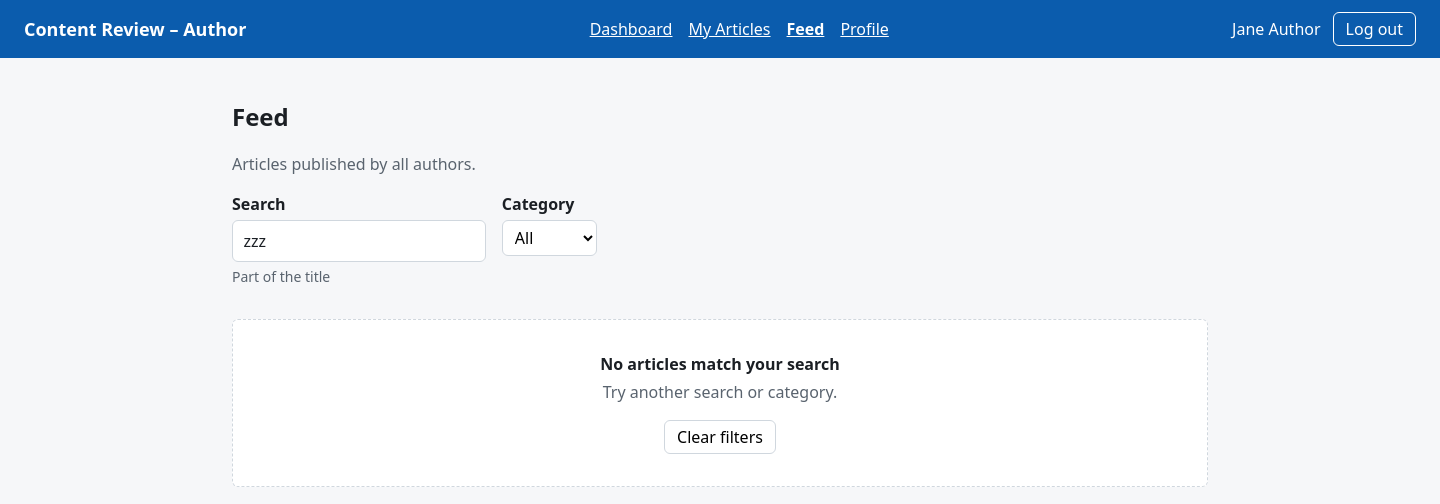
Test: states › tells apart "no matches" and clears the filters
expect the text "No articles match your search" is shown: met, box [600, 353, 840, 375]
What coordinates should you click on to do the following:
click the button with test id "feed-clear-filters"
I would click on:
 (720, 437)
Its box is [664, 420, 776, 454].
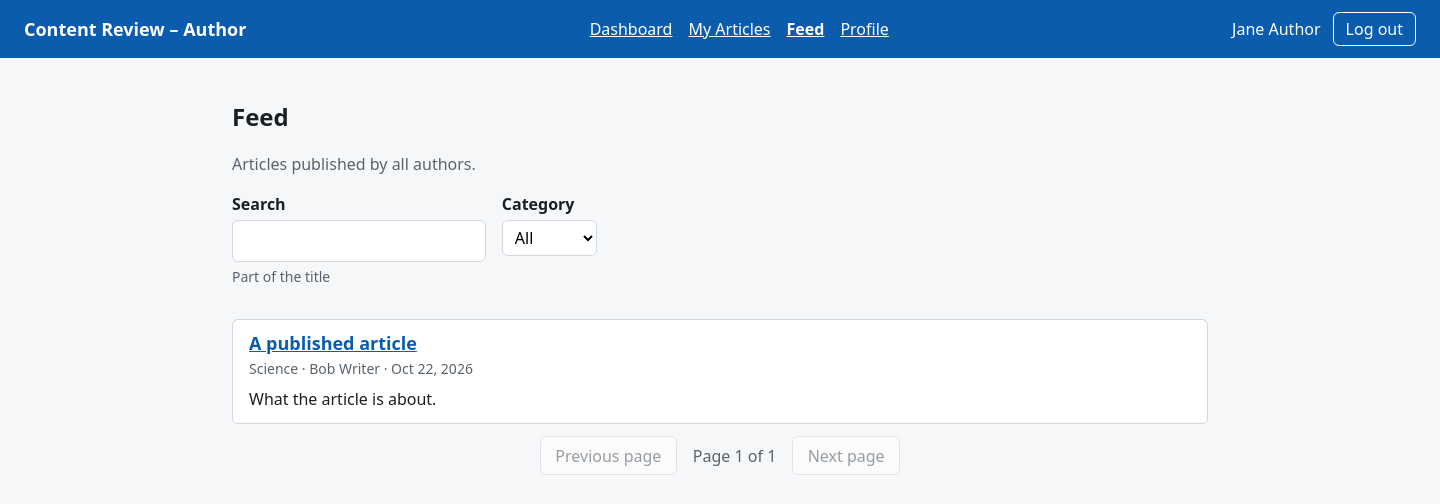
expect the list item with test id "feed-card-f1" is shown: met, box [232, 319, 1208, 424]
expect the search field with test id "feed-search" is empty: met, box [232, 220, 486, 262]
